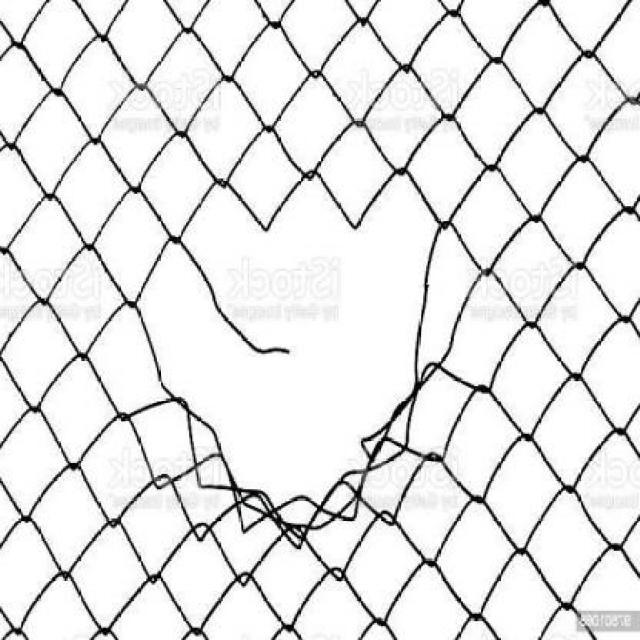fence line: (154, 166, 480, 535)
